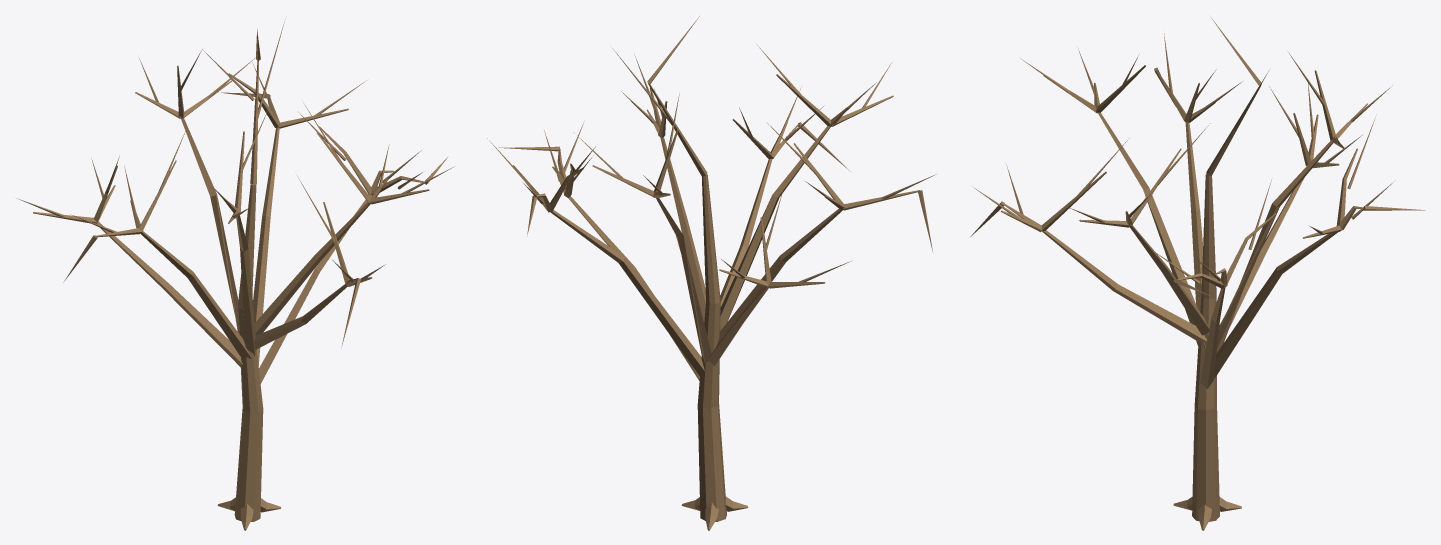
Rendered from oak_bare_01.glb.
The picture shows the model from 3 angles, left to right: view 1: azimuth 30°, elevation 25°; view 2: azimuth 150°, elevation 25°; view 3: azimuth 270°, elevation 25°; orthographic projection. The views are drawn at different scales.
Visible parts, largest first — view 1: Oak_bare_01; view 2: Oak_bare_01; view 3: Oak_bare_01.
Boxes of the visible parts, x1,y1,x2,y2 form: Oak_bare_01: (17, 19, 454, 530); Oak_bare_01: (487, 16, 936, 530); Oak_bare_01: (970, 18, 1425, 530).
Bounding box in the file's own units: 13.98 × 16.03 × 13.09.
